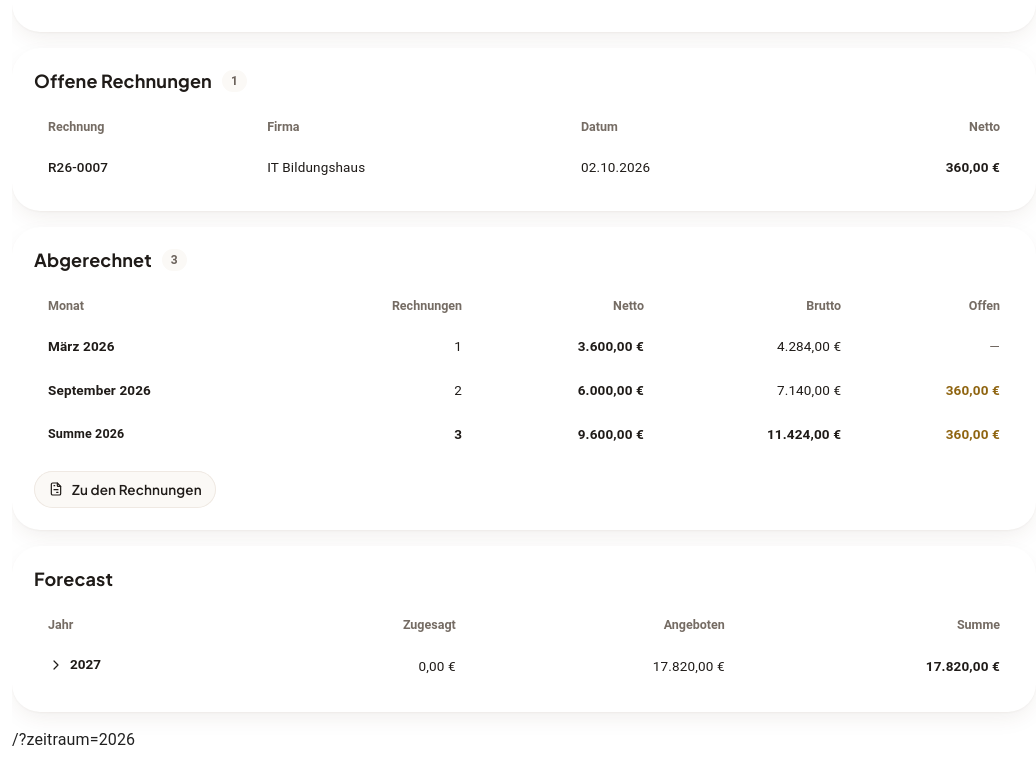
StartseitePage: Zeitraumwahl (Issue #281; #273 Kriterien 1, 2, 5 bis 9) › fuehrt vom Monatsnamen auf genau diesen Monat
(page scrolled)
Click the link "September 2026".
click(100, 390)  # box [48,382,151,398]
(page scrolled)
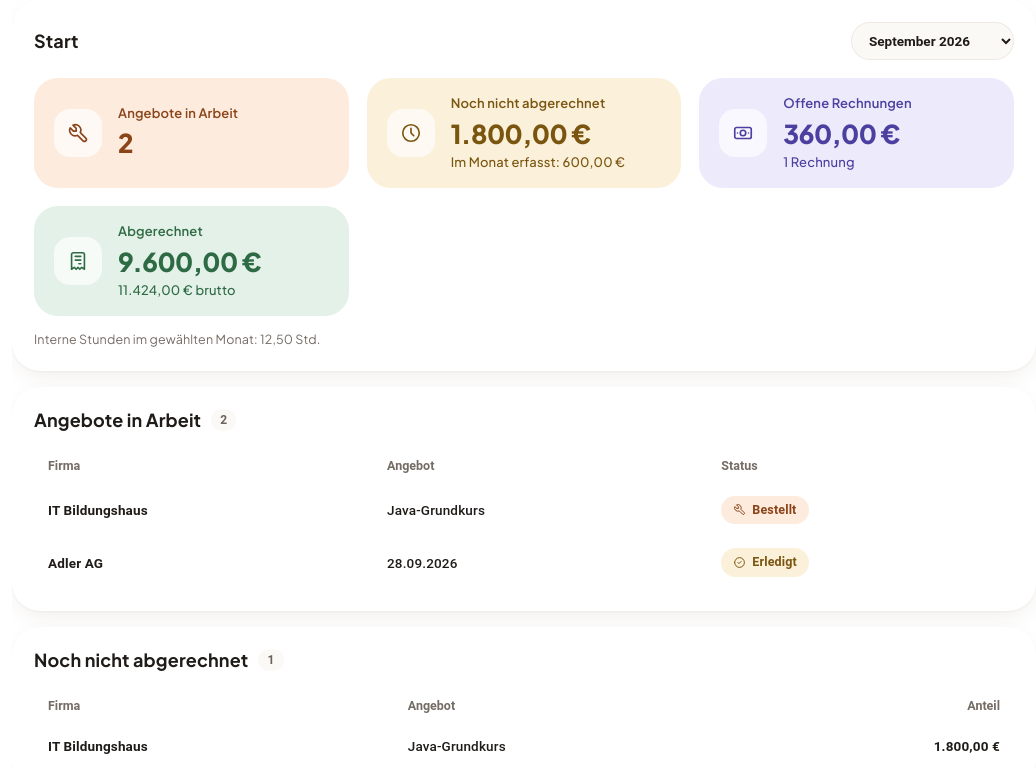
Check: the dropdown named "Zeitraum" shows "September 2026", box [851,22,1014,60]
